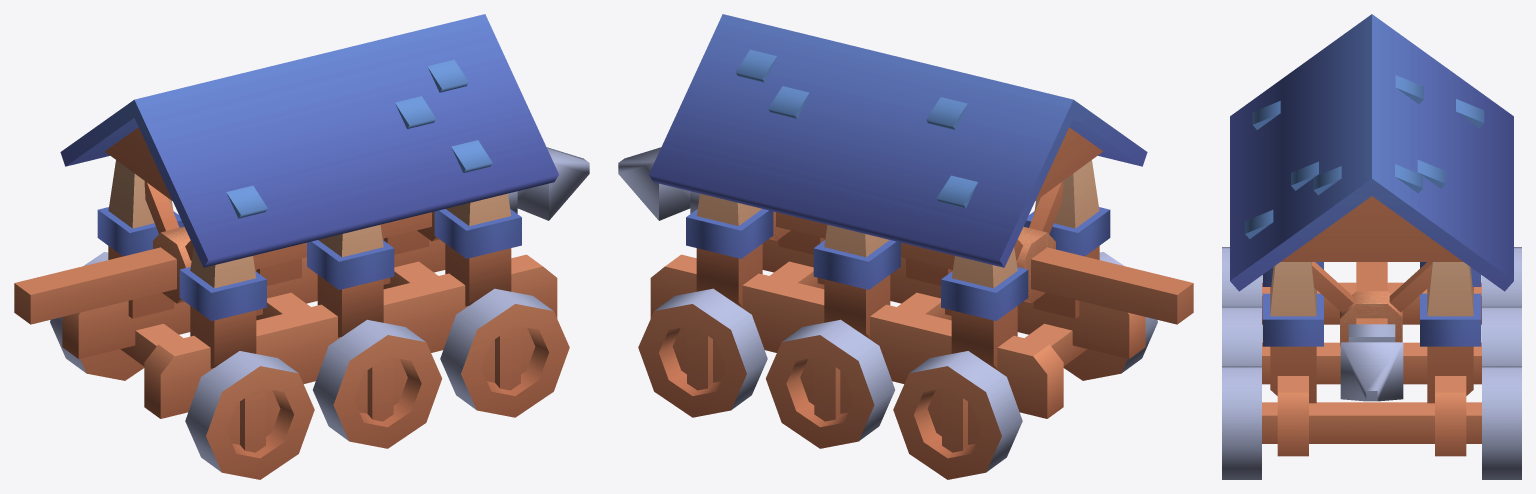
Rendered from siege-ram.obj.
3 renders of one model, left to right at view 1: azimuth 30°, elevation 25°; view 2: azimuth 150°, elevation 25°; view 3: azimuth 270°, elevation 25°, orthographic. The views are drawn at different scales.
Visible parts, largest first — view 1: siege-ram, wheel, ram; view 2: siege-ram, wheel, ram; view 3: siege-ram, wheel, ram.
Boxes of the visible parts, left/top/right/bottom form: siege-ram: left=60, top=14, right=558, bottom=418; wheel: left=50, top=252, right=569, bottom=479; ram: left=14, top=147, right=589, bottom=324; siege-ram: left=649, top=14, right=1147, bottom=418; wheel: left=638, top=252, right=1157, bottom=479; ram: left=618, top=147, right=1193, bottom=324; siege-ram: left=1230, top=14, right=1513, bottom=456; wheel: left=1222, top=247, right=1521, bottom=479; ram: left=1340, top=262, right=1403, bottom=401.
Bounding box in the file's own units: 2.09 × 1.18 × 1.
Materials: 1 (1 with a texture image).
